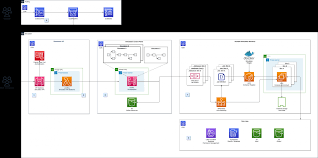codebuild: (103, 8, 113, 17)
codepipeline: (68, 7, 78, 17)
s3: (127, 97, 137, 107), (252, 128, 262, 138), (274, 129, 284, 138)
